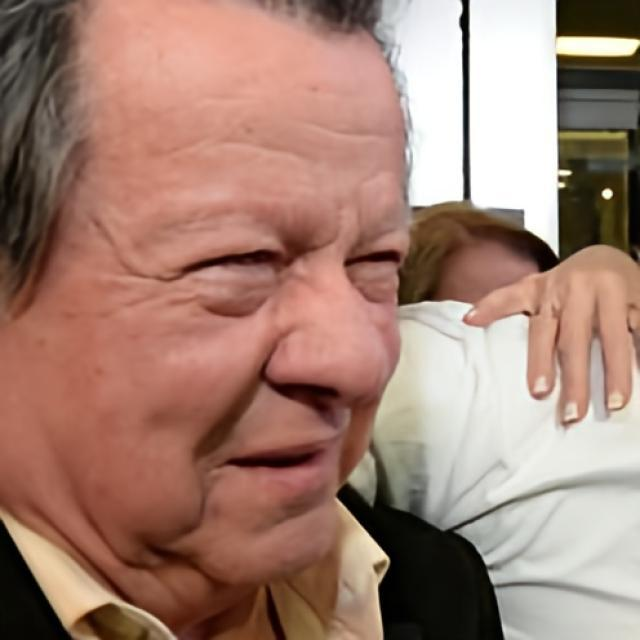sad: (0, 5, 416, 595)
